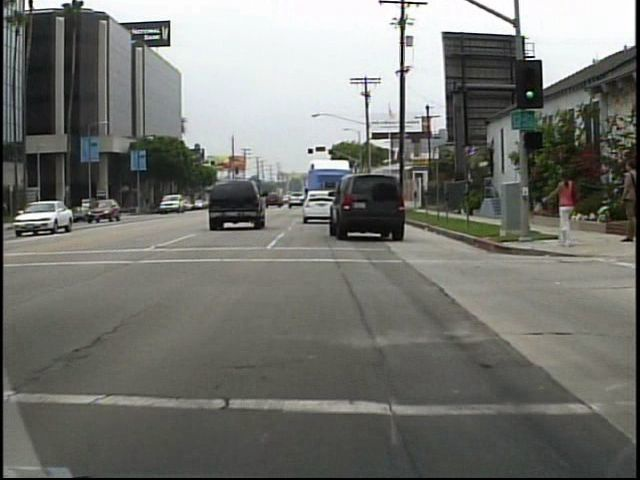person: (543, 167, 583, 250), (609, 155, 636, 244)
